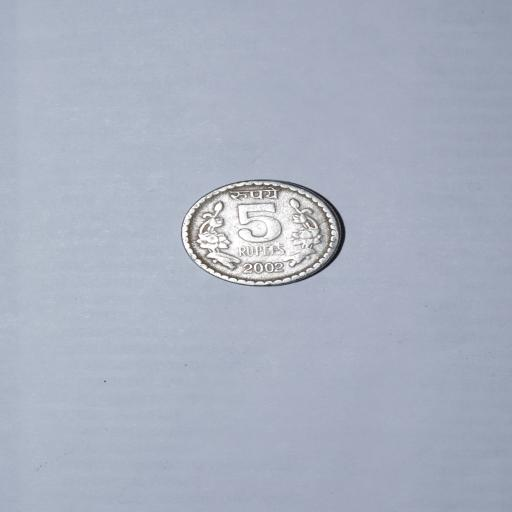rupee5: (179, 179, 348, 289)
